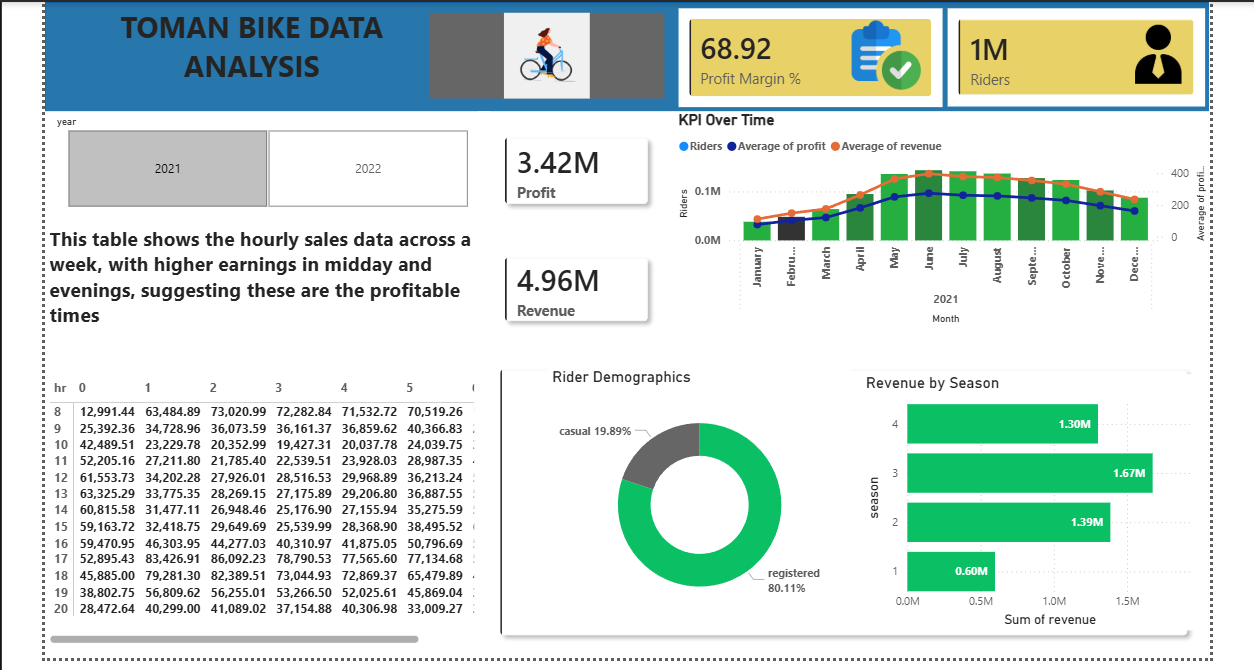

What the dashboard file says about the page in this screenshot:
{"tool":"powerbi","page":{"name":"Page 1","canvas":[1280,720],"ordinal":0},"visuals":[{"type":"shape","box":[0,0,1278.9,224.7],"z":0},{"type":"pivotTable","fields":{"Rows":["bike_data v_bike_financial_results.hr"],"Values":["Sum(bike_data v_bike_financial_results.revenue)"],"Columns":["bike_data v_bike_financial_results.weekday"]},"box":[0,408.8,476.4,300.7],"z":1000},{"type":"lineClusteredColumnComboChart","title":"KPI Over Time","fields":{"Category":["bike_data v_bike_financial_results.dteday.Variation.Date Hierarchy.Year","bike_data v_bike_financial_results.dteday.Variation.Date Hierarchy.Month","bike_data v_bike_financial_results.dteday.Variation.Date Hierarchy.Day"],"Y2":["Avg(bike_data v_bike_financial_results.profit)","Avg(bike_data v_bike_financial_results.revenue)"],"Y":["Sum(bike_data v_bike_financial_results.riders)"]},"box":[691,119.9,589.6,238.2],"z":2000},{"type":"cardVisual","fields":{"Data":["CountNonNull(bike_data v_bike_financial_results.riders)"]},"box":[476.7,380,803.3,340],"z":3000},{"type":"clusteredBarChart","title":"Revenue by Season","fields":{"Y":["Sum(bike_data v_bike_financial_results.revenue)"],"Category":["bike_data v_bike_financial_results.season"]},"box":[896.7,408.3,383.3,281.7],"z":4000},{"type":"donutChart","title":"Rider Demographics","fields":{"Category":["bike_data v_bike_financial_results.rider_type"],"Y":["Sum(bike_data v_bike_financial_results.riders)"]},"box":[551.7,401.7,333.3,281.7],"z":5000},{"type":"cardVisual","fields":{"Data":["Sum(bike_data v_bike_financial_results.revenue)"]},"box":[476.7,251.7,215,128.3],"z":6000},{"type":"cardVisual","fields":{"Data":["Sum(bike_data v_bike_financial_results.profit)"]},"box":[476.7,120,215,131.7],"z":7000},{"type":"textbox","box":[0,0,454.4,119.9],"z":8000},{"type":"cardVisual","title":"Riders","fields":{"Data":["Sum(bike_data v_bike_financial_results.riders)"]},"box":[986.6,1.7,294,118.3],"z":9000},{"type":"cardVisual","fields":{"Data":["bike_data v_bike_financial_results.Profit Margin %"]},"box":[691,1.7,300.7,119.9],"z":10000},{"type":"image","box":[1167.4,20.3,111.5,74.3],"z":10001},{"type":"image","box":[878.5,20.3,91.2,76],"z":10002},{"type":"textbox","box":[0,239.9,474.7,131.8],"z":10003},{"type":"slicer","fields":{"Values":["bike_data v_bike_financial_results.year"]},"box":[0,119.9,488.2,111.5],"z":10004},{"type":"image","box":[422.3,11.8,258.5,94.6],"z":10005}]}

Visuals, with their boxes on the page's 1280x720 design canvas (x1, y1, x2, y2). These are canvas units, not pixel positions in the 1254x670 screenshot, which may show the page scaled, cropped or inside an application window:
shape: l=0, t=0, r=1279, b=225
pivotTable - bike_data v_bike_financial_results.hr x Sum(bike_data v_bike_financial_results.revenue): l=0, t=409, r=476, b=710
"KPI Over Time" lineClusteredColumnComboChart: l=691, t=120, r=1281, b=358
cardVisual - CountNonNull(bike_data v_bike_financial_results.riders): l=477, t=380, r=1280, b=720
"Revenue by Season" clusteredBarChart: l=897, t=408, r=1280, b=690
"Rider Demographics" donutChart: l=552, t=402, r=885, b=683
cardVisual - Sum(bike_data v_bike_financial_results.revenue): l=477, t=252, r=692, b=380
cardVisual - Sum(bike_data v_bike_financial_results.profit): l=477, t=120, r=692, b=252
textbox: l=0, t=0, r=454, b=120
"Riders" cardVisual: l=987, t=2, r=1281, b=120
cardVisual - bike_data v_bike_financial_results.Profit Margin %: l=691, t=2, r=992, b=122
image: l=1167, t=20, r=1279, b=95
image: l=878, t=20, r=970, b=96
textbox: l=0, t=240, r=475, b=372
slicer - bike_data v_bike_financial_results.year: l=0, t=120, r=488, b=231
image: l=422, t=12, r=681, b=106
